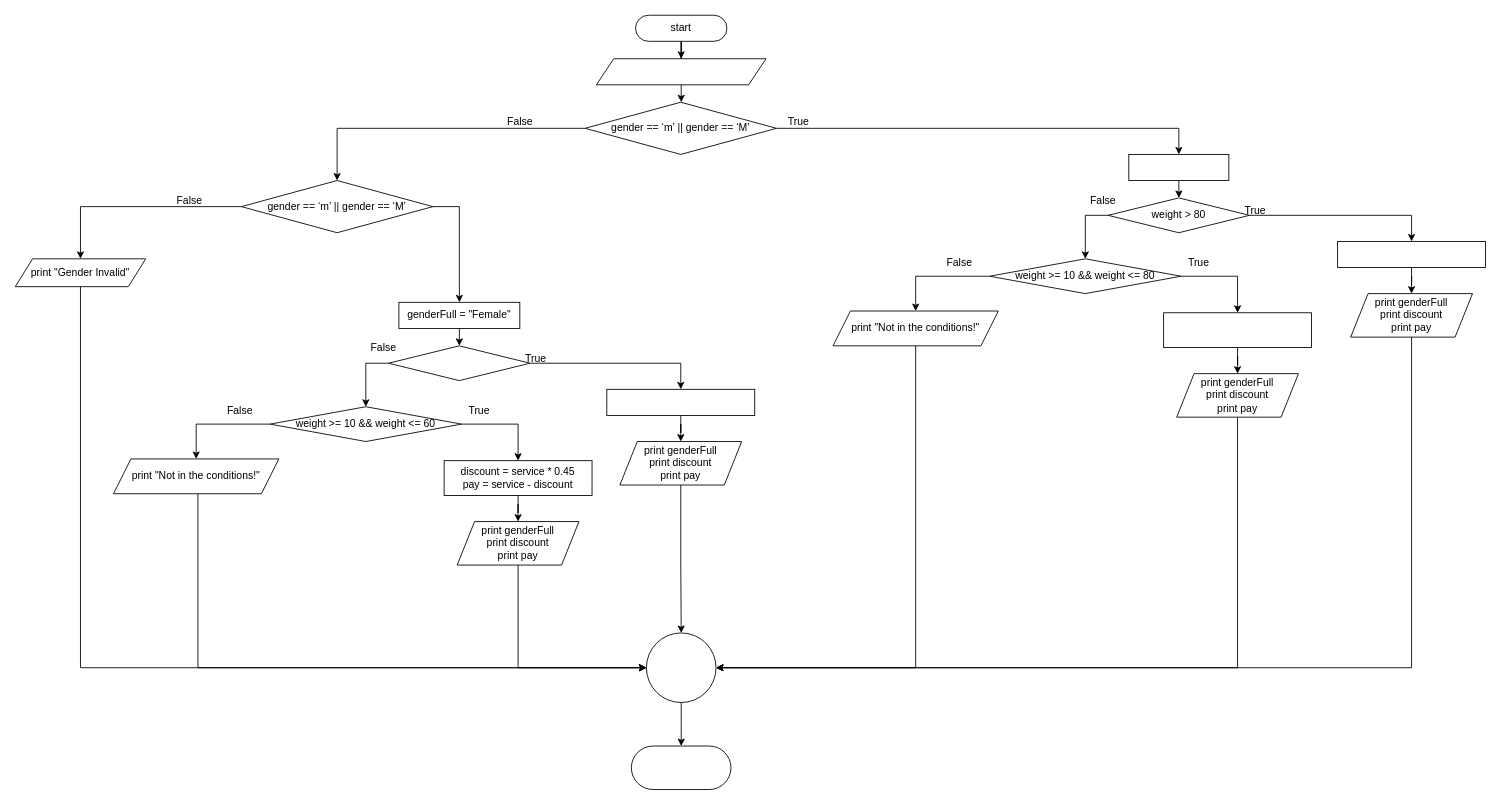
Some shapes in this 1501 by 805 pixel diagram are drawn without their labels. Here are the shapes that lost their labels. From the top down, the centre of each, then its label:
At [681,71]: "read gender, weight, service".
At [1178,167]: "genderFull = “Male”".
At [1411,254]: "discount = service * 0.5 pay = service - discount".
At [1237,330]: "discount = service * 0.25 pay = service - discount".
At [459,363]: "weight > 60".
At [680,401]: "discount = service * 0.75 pay = service - discount".
At [680,767]: "stop".
